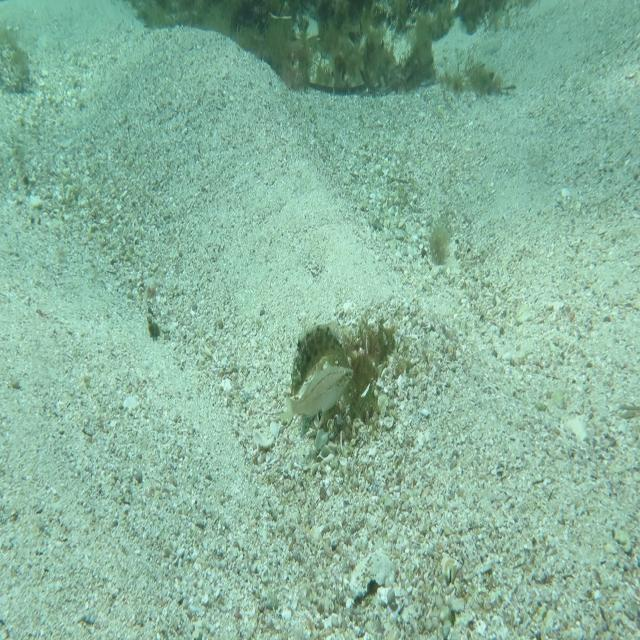BEND: (289, 314, 356, 404)
female: (281, 362, 355, 428)
nest: (296, 308, 408, 443)
vegetation: (131, 0, 527, 32), (261, 37, 440, 94), (428, 215, 456, 269)
